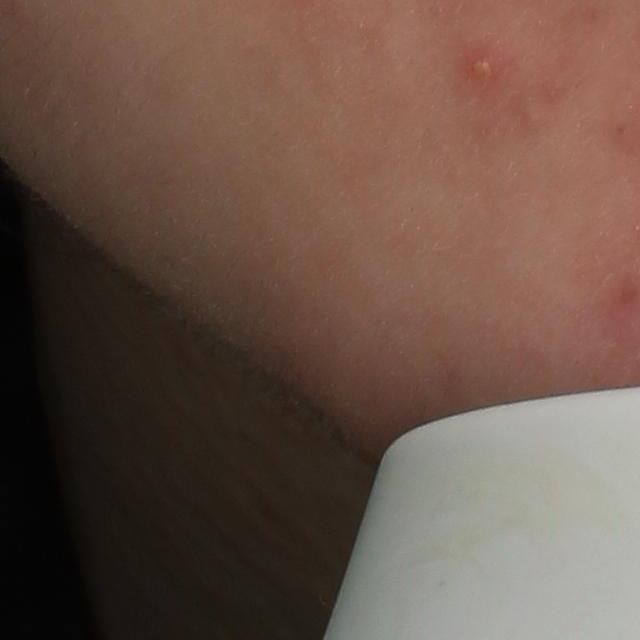pustule: (460, 45, 508, 96)
